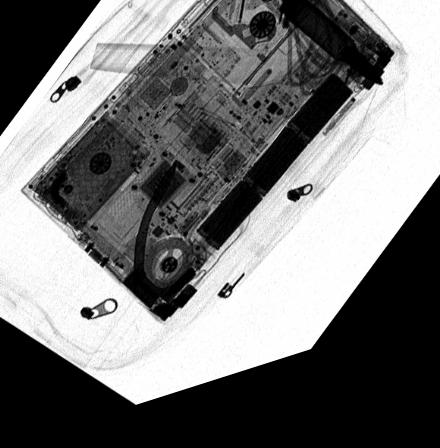Bullet: (277, 8, 384, 110)
